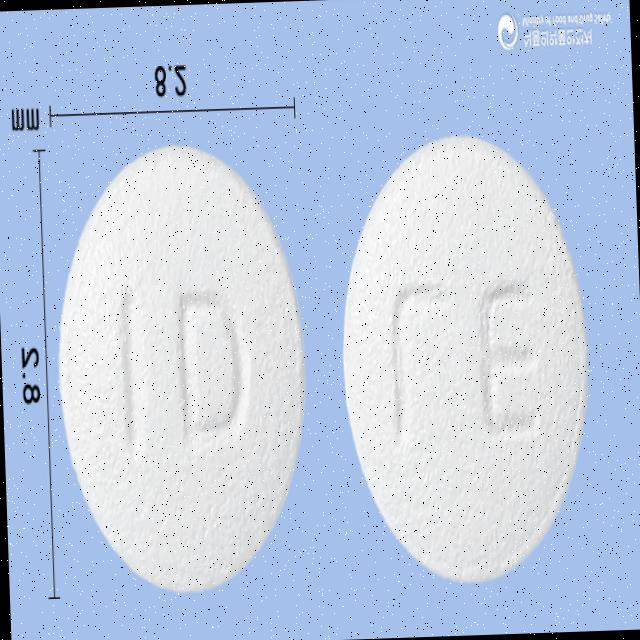Levofexin - 250mg: (50, 139, 311, 598), (337, 128, 596, 588)
